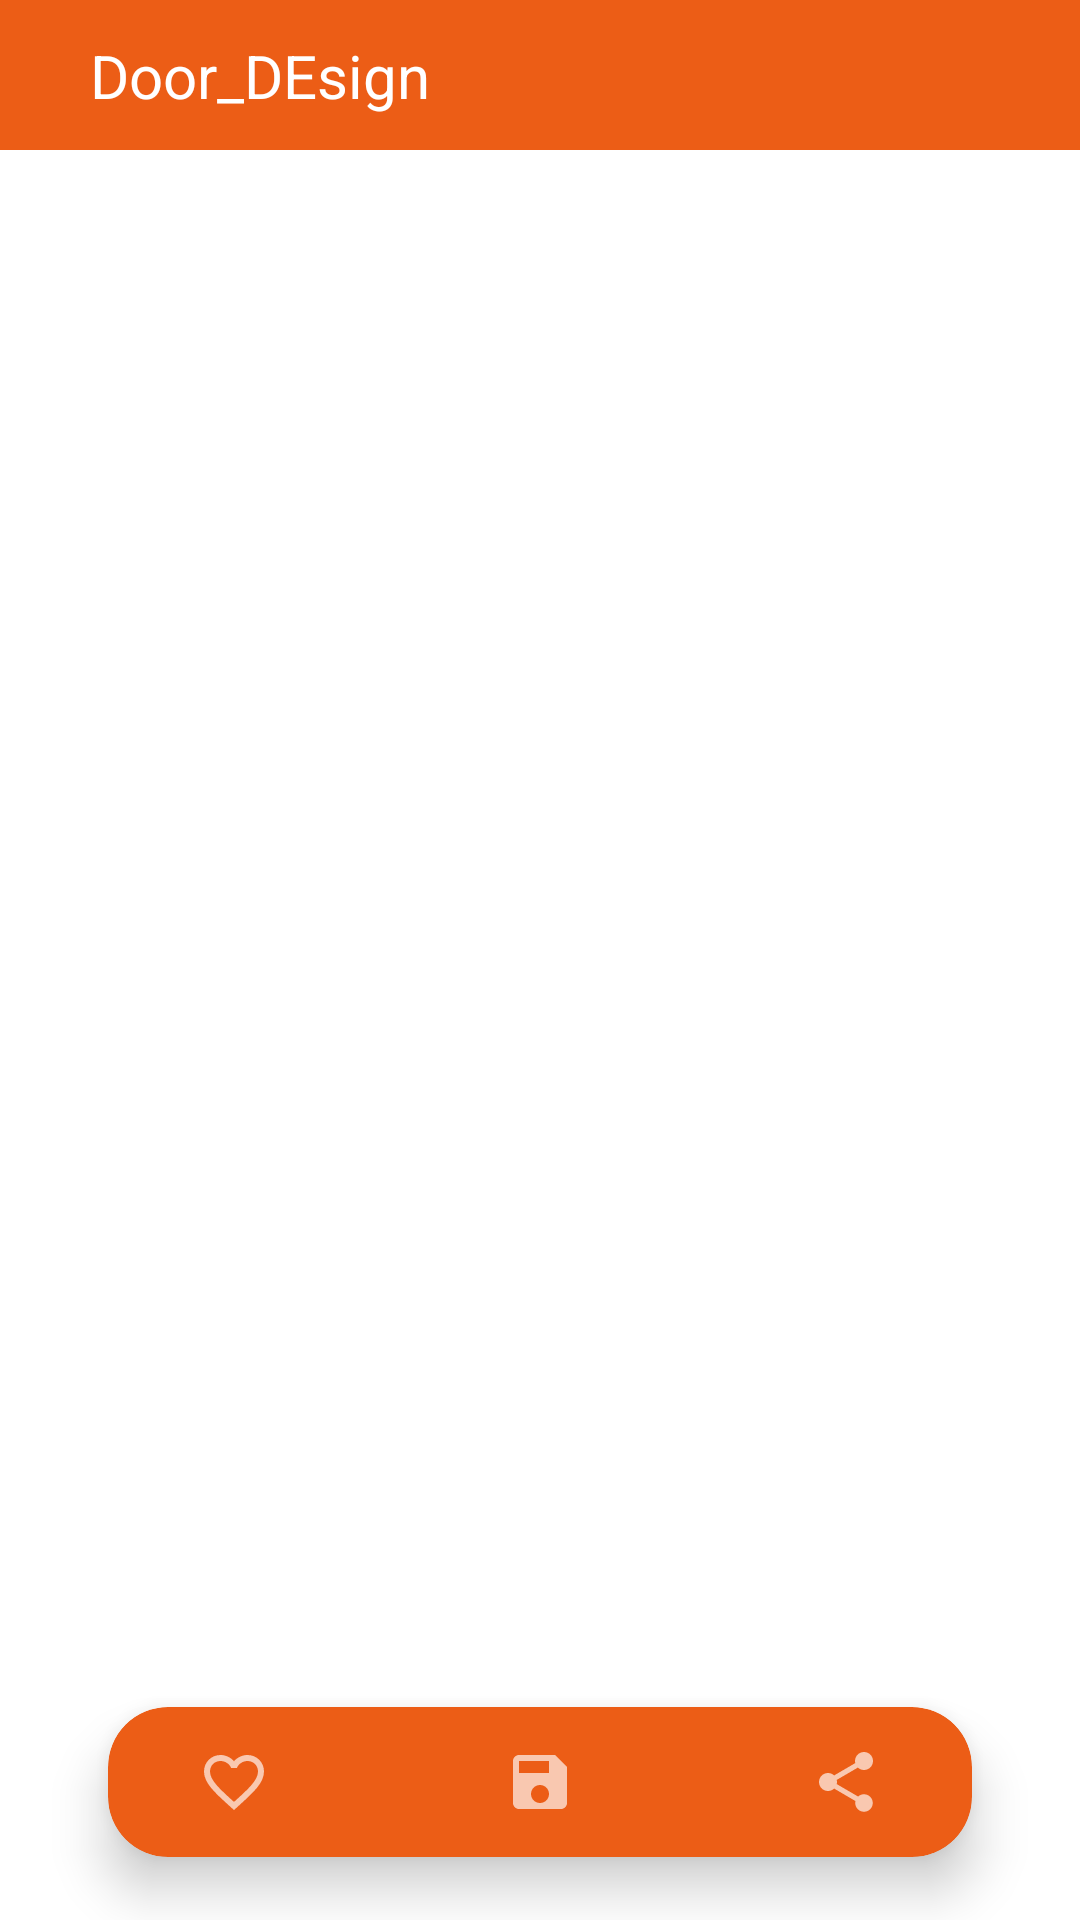

Named icons in this screenshot (1080*1920) and their bounding boxes, (x1, y1, x2, y2):
favorite border: (204, 1755, 264, 1810)
save: (513, 1755, 567, 1809)
share: (819, 1752, 873, 1812)
